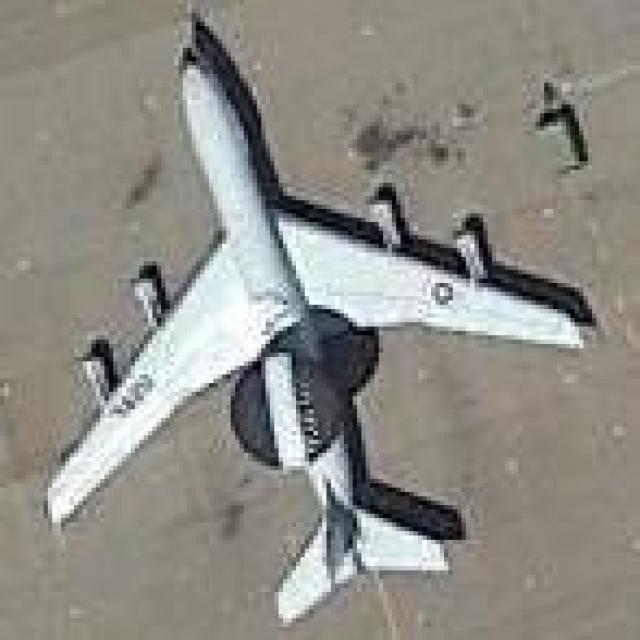E-3_TopDown: (39, 0, 597, 623)
